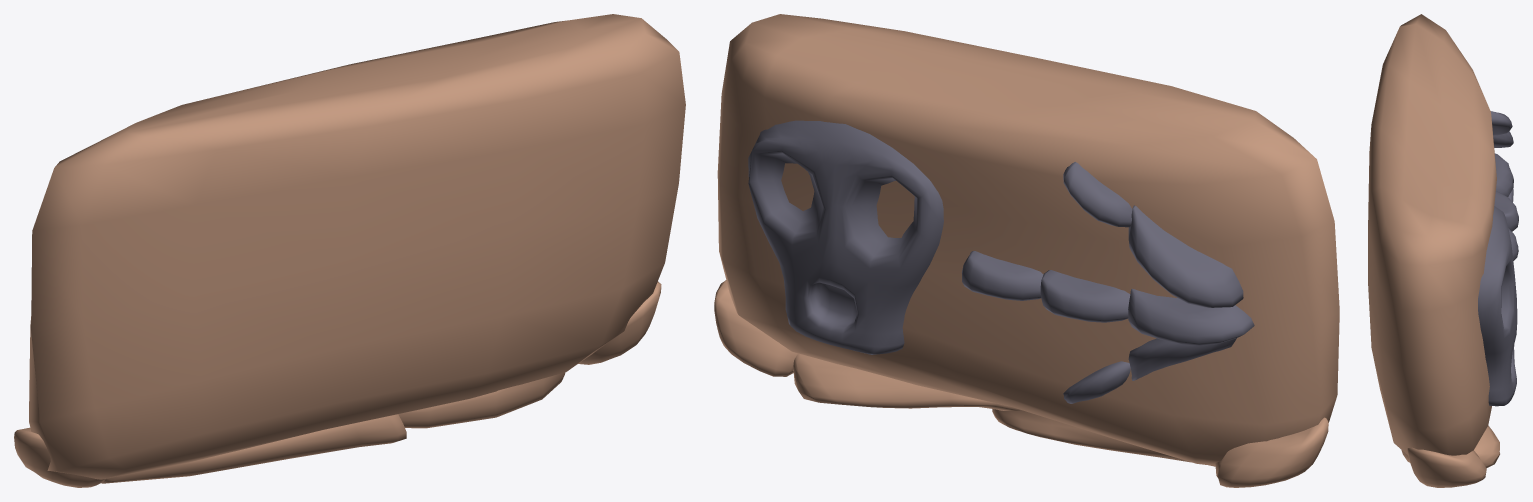
The model's file is signE.fbx.
The picture shows the model from 3 angles, left to right: view 1: azimuth 30°, elevation 25°; view 2: azimuth 150°, elevation 25°; view 3: azimuth 270°, elevation 25°; orthographic projection. The views are drawn at different scales.
Parts seen in each view (by area): view 1: sign_E; view 2: sign_E; view 3: sign_E.
Boxes of the visible parts, box(x1,y1,x2,y2) form: sign_E: box(14, 14, 685, 487); sign_E: box(714, 14, 1339, 487); sign_E: box(1368, 14, 1518, 487).
Size of the model in its own units: 1.23 by 0.6848 by 0.3197.
